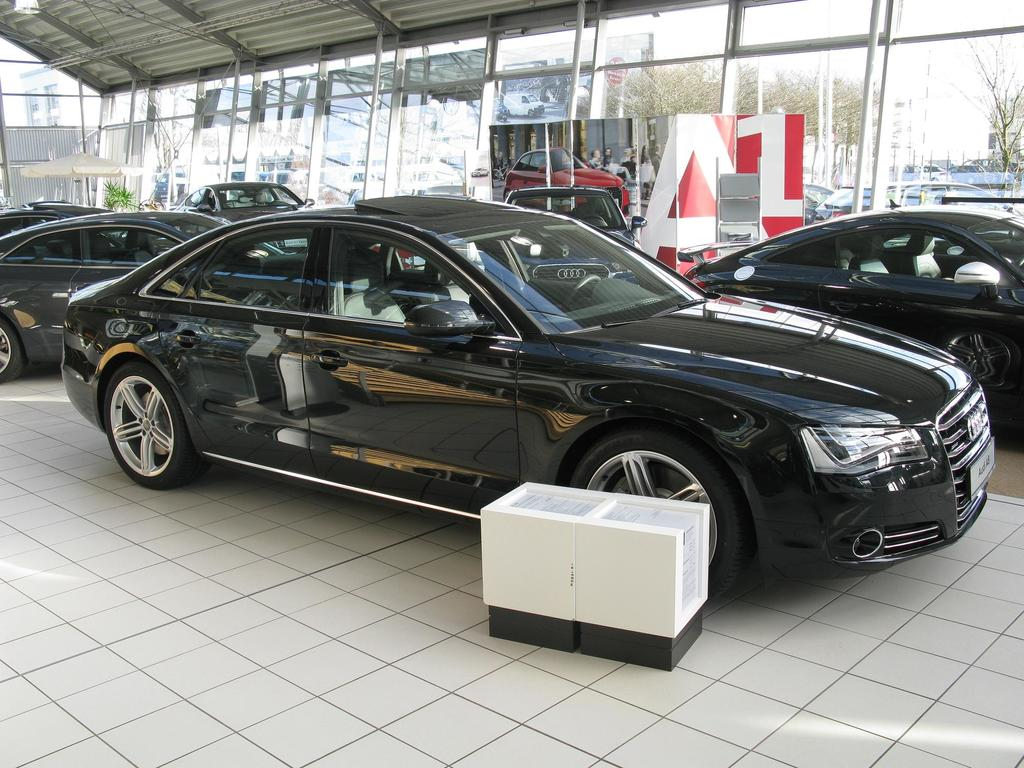Car: (0, 176, 1023, 597), (506, 141, 630, 218)
